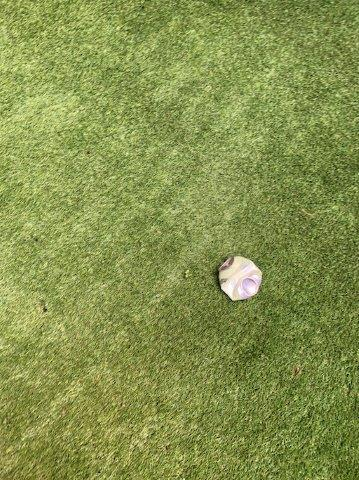kaleng: (218, 256, 262, 301)
